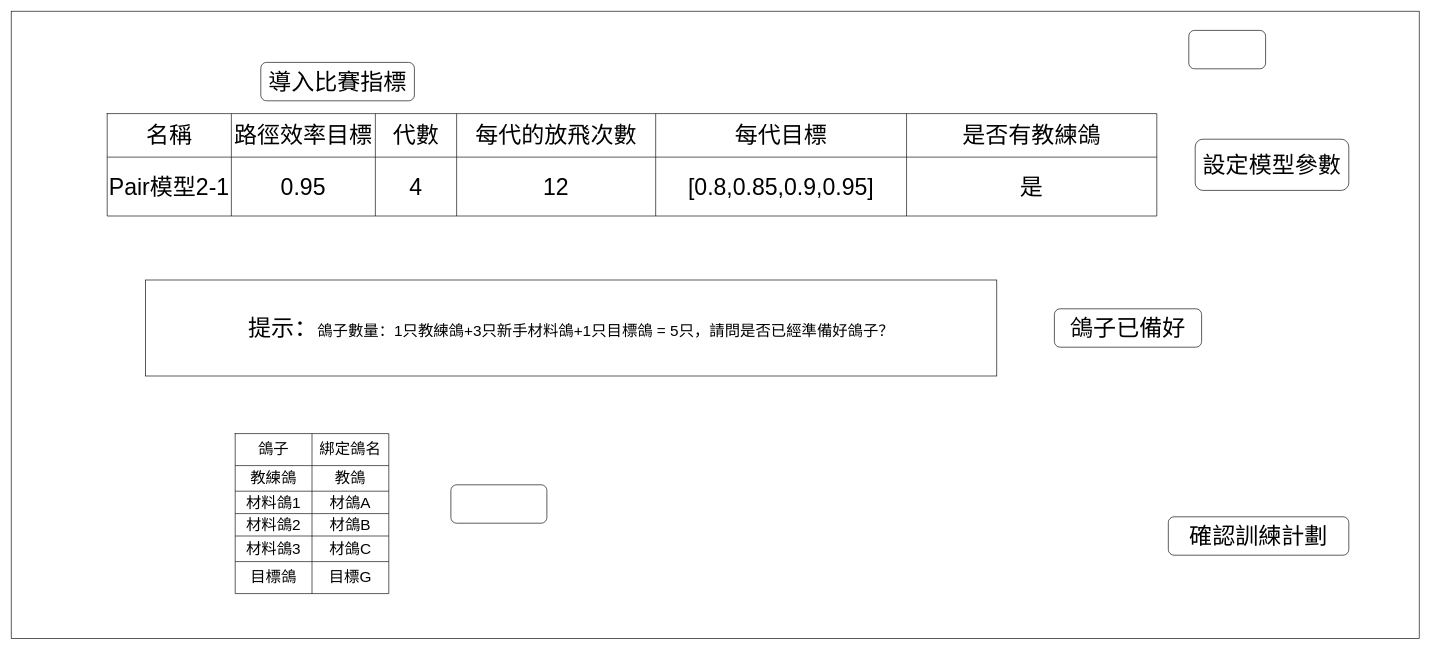
The diagram is 1430 pixels wide and 650 high, and some of its shapes have lost their labels. The shapes that lost their labels are listed below. From the top down, each one's centre as x and y in pixels, then its label:
At point (1227, 49): "回到首頁".
At point (498, 503): "確認名稱".
